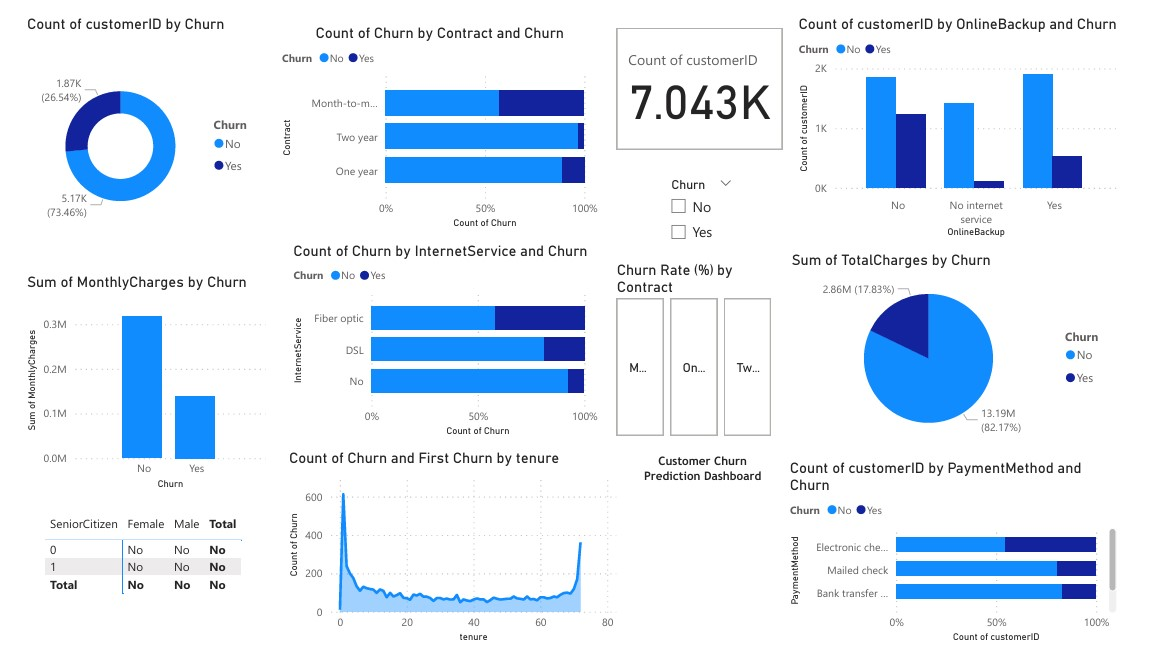

What the dashboard file says about the page in this screenshot:
{"tool":"powerbi","page":{"name":"Page 1","canvas":[1280,720],"ordinal":0},"visuals":[{"type":"donutChart","fields":{"Category":["WA_Fn-UseC_-Telco-Customer-Churn.Churn"],"Y":["CountNonNull(WA_Fn-UseC_-Telco-Customer-Churn.customerID)"]},"box":[10,0,280,280],"z":0},{"type":"clusteredColumnChart","fields":{"Category":["WA_Fn-UseC_-Telco-Customer-Churn.Churn"],"Y":["Sum(WA_Fn-UseC_-Telco-Customer-Churn.MonthlyCharges)"]},"box":[10.5,294.2,280.2,251.2],"z":1000},{"type":"hundredPercentStackedBarChart","fields":{"Category":["WA_Fn-UseC_-Telco-Customer-Churn.Contract"],"Y":["CountNonNull(WA_Fn-UseC_-Telco-Customer-Churn.Churn)"],"Series":["WA_Fn-UseC_-Telco-Customer-Churn.Churn"]},"box":[300,10.5,368.6,237.2],"z":2000},{"type":"hundredPercentStackedBarChart","fields":{"Category":["WA_Fn-UseC_-Telco-Customer-Churn.InternetService"],"Series":["WA_Fn-UseC_-Telco-Customer-Churn.Churn"],"Y":["CountNonNull(WA_Fn-UseC_-Telco-Customer-Churn.Churn)"]},"box":[312.8,258.1,355.8,226.7],"z":3000},{"type":"areaChart","fields":{"Category":["WA_Fn-UseC_-Telco-Customer-Churn.tenure"],"Y":["CountNonNull(WA_Fn-UseC_-Telco-Customer-Churn.Churn)"]},"box":[308.1,494.2,381.4,225.6],"z":4000},{"type":"hundredPercentStackedBarChart","fields":{"Category":["WA_Fn-UseC_-Telco-Customer-Churn.PaymentMethod"],"Y":["CountNonNull(WA_Fn-UseC_-Telco-Customer-Churn.customerID)"],"Series":["WA_Fn-UseC_-Telco-Customer-Churn.Churn"]},"box":[877.9,505.8,381.4,214],"z":5000},{"type":"lineClusteredColumnComboChart","fields":{"Category":["WA_Fn-UseC_-Telco-Customer-Churn.OnlineBackup","WA_Fn-UseC_-Telco-Customer-Churn.OnlineSecurity","WA_Fn-UseC_-Telco-Customer-Churn.DeviceProtection","WA_Fn-UseC_-Telco-Customer-Churn.TechSupport"],"Y":["CountNonNull(WA_Fn-UseC_-Telco-Customer-Churn.customerID)"],"Series":["WA_Fn-UseC_-Telco-Customer-Churn.Churn"]},"box":[888.4,0,372.1,258.1],"z":6000},{"type":"pivotTable","fields":{"Rows":["WA_Fn-UseC_-Telco-Customer-Churn.SeniorCitizen"],"Columns":["WA_Fn-UseC_-Telco-Customer-Churn.gender"],"Values":["Min(WA_Fn-UseC_-Telco-Customer-Churn.Churn)"]},"box":[31.4,565.1,236,112.8],"z":7000},{"type":"pieChart","fields":{"Series":["WA_Fn-UseC_-Telco-Customer-Churn.Churn"],"Y":["Sum(WA_Fn-UseC_-Telco-Customer-Churn.TotalCharges)"]},"box":[880.2,268.6,379.1,225.6],"z":8000},{"type":"cardVisual","fields":{"Data":["CountNonNull(WA_Fn-UseC_-Telco-Customer-Churn.customerID)"]},"box":[681.4,10.5,198.8,148.8],"z":9000},{"type":"slicer","fields":{"Values":["WA_Fn-UseC_-Telco-Customer-Churn.Churn"]},"box":[734.9,180.2,94.2,88.4],"z":10000},{"type":"textbox","box":[700,494.2,167.4,61.6],"z":11001},{"type":"advancedSlicerVisual","fields":{"Values":["WA_Fn-UseC_-Telco-Customer-Churn.Contract"]},"box":[681.4,280.2,186,204.7],"z":11002}]}

Visuals, with their boxes in screenshot pixels (x1, y1, x2, y2), scaled from the page's 1280x720 canvas onto the 1151x657 screenshot:
donutChart - WA_Fn-UseC_-Telco-Customer-Churn.Churn x CountNonNull(WA_Fn-UseC_-Telco-Customer-Churn.customerID): <box>9,0,261,256</box>
clusteredColumnChart - WA_Fn-UseC_-Telco-Customer-Churn.Churn x Sum(WA_Fn-UseC_-Telco-Customer-Churn.MonthlyCharges): <box>9,268,261,498</box>
hundredPercentStackedBarChart - WA_Fn-UseC_-Telco-Customer-Churn.Contract x CountNonNull(WA_Fn-UseC_-Telco-Customer-Churn.Churn): <box>270,10,601,226</box>
hundredPercentStackedBarChart - WA_Fn-UseC_-Telco-Customer-Churn.InternetService x WA_Fn-UseC_-Telco-Customer-Churn.Churn: <box>281,236,601,442</box>
areaChart - WA_Fn-UseC_-Telco-Customer-Churn.tenure x CountNonNull(WA_Fn-UseC_-Telco-Customer-Churn.Churn): <box>277,451,620,656</box>
hundredPercentStackedBarChart - WA_Fn-UseC_-Telco-Customer-Churn.PaymentMethod x CountNonNull(WA_Fn-UseC_-Telco-Customer-Churn.customerID): <box>789,462,1132,656</box>
lineClusteredColumnComboChart - WA_Fn-UseC_-Telco-Customer-Churn.OnlineBackup x WA_Fn-UseC_-Telco-Customer-Churn.OnlineSecurity: <box>799,0,1133,236</box>
pivotTable - WA_Fn-UseC_-Telco-Customer-Churn.SeniorCitizen x WA_Fn-UseC_-Telco-Customer-Churn.gender: <box>28,516,240,619</box>
pieChart - WA_Fn-UseC_-Telco-Customer-Churn.Churn x Sum(WA_Fn-UseC_-Telco-Customer-Churn.TotalCharges): <box>791,245,1132,451</box>
cardVisual - CountNonNull(WA_Fn-UseC_-Telco-Customer-Churn.customerID): <box>613,10,791,145</box>
slicer - WA_Fn-UseC_-Telco-Customer-Churn.Churn: <box>661,164,746,245</box>
textbox: <box>629,451,780,507</box>
advancedSlicerVisual - WA_Fn-UseC_-Telco-Customer-Churn.Contract: <box>613,256,780,442</box>
